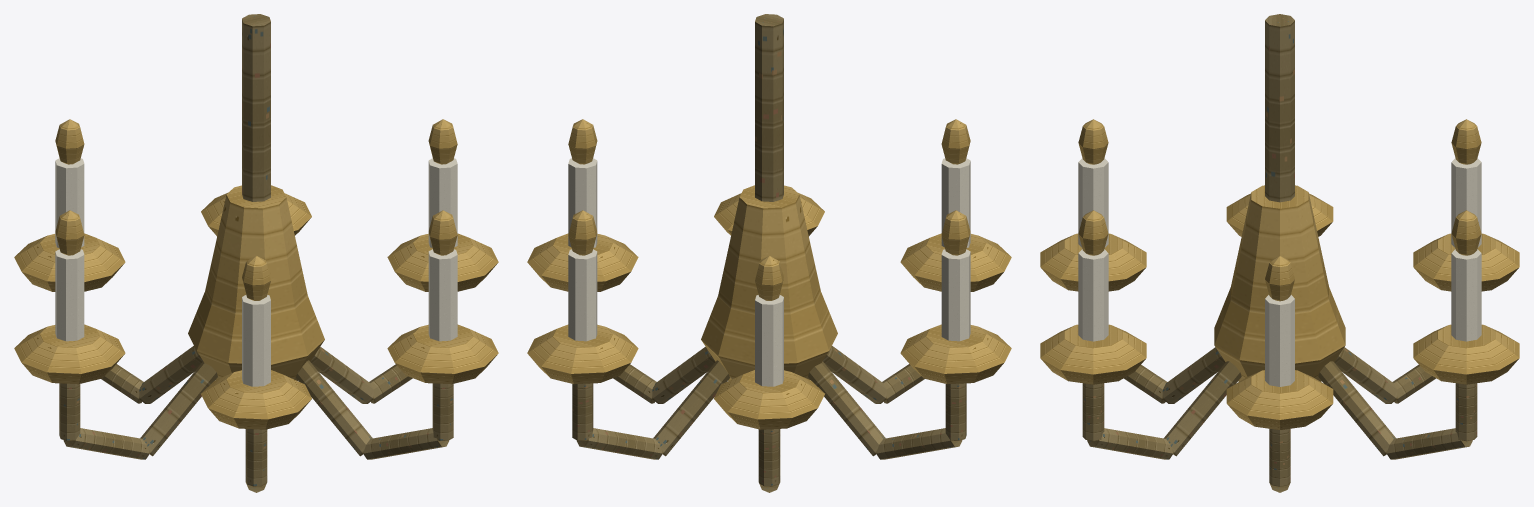
The model's file is MD_33_Chandelier.fbx.
3 views of the same model, side by side, from view 1: azimuth 30°, elevation 25°; view 2: azimuth 150°, elevation 25°; view 3: azimuth 270°, elevation 25° (orthographic).
Visible parts, largest first — view 1: MD_33_Chandelier_central_body, MD_33_Chandelier_ceiling_rod, MD_33_Chandelier_candle_cup.005, MD_33_Chandelier_candle_cup.003, MD_33_Chandelier_candle_cup.004, MD_33_Chandelier_candle_cup.002, MD_33_Chandelier_candle_cup, MD_33_Chandelier_candle.003, MD_33_Chandelier_candle.005, MD_33_Chandelier_candle.004, MD_33_Chandelier_sweeping_arm_0.003, MD_33_Chandelier_sweeping_arm_0.005 (+17 smaller); view 2: MD_33_Chandelier_central_body, MD_33_Chandelier_ceiling_rod, MD_33_Chandelier_candle_cup.001, MD_33_Chandelier_candle_cup.003, MD_33_Chandelier_candle_cup.002, MD_33_Chandelier_candle_cup.004, MD_33_Chandelier_candle_cup, MD_33_Chandelier_candle.001, MD_33_Chandelier_candle.003, MD_33_Chandelier_candle.002, MD_33_Chandelier_sweeping_arm_0.003, MD_33_Chandelier_sweeping_arm_0.001 (+17 smaller); view 3: MD_33_Chandelier_central_body, MD_33_Chandelier_ceiling_rod, MD_33_Chandelier_candle_cup, MD_33_Chandelier_candle_cup.001, MD_33_Chandelier_candle_cup.005, MD_33_Chandelier_candle_cup.002, MD_33_Chandelier_candle_cup.004, MD_33_Chandelier_candle.001, MD_33_Chandelier_candle.005, MD_33_Chandelier_candle, MD_33_Chandelier_sweeping_arm_0.001, MD_33_Chandelier_sweeping_arm_0.005 (+17 smaller).
Part boxes in pixels (left/top/right/bottom): MD_33_Chandelier_central_body: left=188, top=185, right=324, bottom=380; MD_33_Chandelier_ceiling_rod: left=242, top=14, right=270, bottom=201; MD_33_Chandelier_candle_cup.005: left=387, top=324, right=498, bottom=384; MD_33_Chandelier_candle_cup.003: left=14, top=324, right=125, bottom=384; MD_33_Chandelier_candle_cup.004: left=201, top=370, right=311, bottom=429; MD_33_Chandelier_candle_cup.002: left=14, top=233, right=125, bottom=291; MD_33_Chandelier_candle_cup: left=387, top=233, right=498, bottom=291; MD_33_Chandelier_candle.003: left=55, top=249, right=84, bottom=341; MD_33_Chandelier_candle.005: left=428, top=249, right=457, bottom=341; MD_33_Chandelier_candle.004: left=242, top=295, right=270, bottom=386; MD_33_Chandelier_sweeping_arm_0.003: left=140, top=361, right=217, bottom=456; MD_33_Chandelier_sweeping_arm_0.005: left=295, top=360, right=372, bottom=456; MD_33_Chandelier_central_body: left=701, top=185, right=837, bottom=380; MD_33_Chandelier_ceiling_rod: left=755, top=14, right=783, bottom=201; MD_33_Chandelier_candle_cup.001: left=527, top=324, right=638, bottom=384; MD_33_Chandelier_candle_cup.003: left=900, top=324, right=1011, bottom=384; MD_33_Chandelier_candle_cup.002: left=714, top=370, right=824, bottom=429; MD_33_Chandelier_candle_cup.004: left=900, top=233, right=1011, bottom=291; MD_33_Chandelier_candle_cup: left=527, top=233, right=638, bottom=291; MD_33_Chandelier_candle.001: left=568, top=249, right=597, bottom=341; MD_33_Chandelier_candle.003: left=941, top=249, right=970, bottom=341; MD_33_Chandelier_candle.002: left=755, top=295, right=783, bottom=386; MD_33_Chandelier_sweeping_arm_0.003: left=808, top=361, right=885, bottom=456; MD_33_Chandelier_sweeping_arm_0.001: left=653, top=360, right=730, bottom=456; MD_33_Chandelier_central_body: left=1214, top=185, right=1345, bottom=381; MD_33_Chandelier_ceiling_rod: left=1265, top=14, right=1294, bottom=202; MD_33_Chandelier_candle_cup: left=1226, top=370, right=1333, bottom=429; MD_33_Chandelier_candle_cup.001: left=1413, top=324, right=1519, bottom=384; MD_33_Chandelier_candle_cup.005: left=1040, top=324, right=1146, bottom=384; MD_33_Chandelier_candle_cup.002: left=1413, top=233, right=1519, bottom=291; MD_33_Chandelier_candle_cup.004: left=1040, top=233, right=1146, bottom=291; MD_33_Chandelier_candle.001: left=1451, top=249, right=1481, bottom=341; MD_33_Chandelier_candle.005: left=1078, top=249, right=1108, bottom=341; MD_33_Chandelier_candle: left=1265, top=295, right=1294, bottom=386; MD_33_Chandelier_sweeping_arm_0.001: left=1318, top=361, right=1396, bottom=456; MD_33_Chandelier_sweeping_arm_0.005: left=1163, top=361, right=1241, bottom=456.
Bounding box in the file's own units: 1.26 × 1.05 × 1.11.
3 materials, 3 textured.
